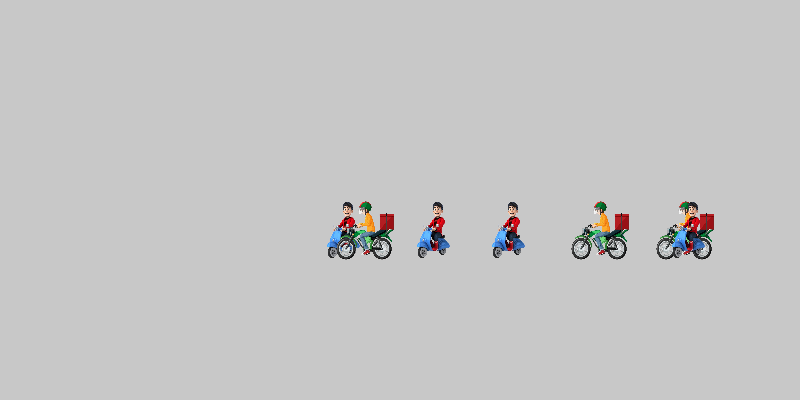helmet: (335, 200, 395, 260), (570, 200, 630, 260), (655, 200, 715, 260)
no_helmet: (315, 200, 375, 260), (405, 200, 465, 260), (480, 200, 540, 260), (660, 200, 720, 260)
